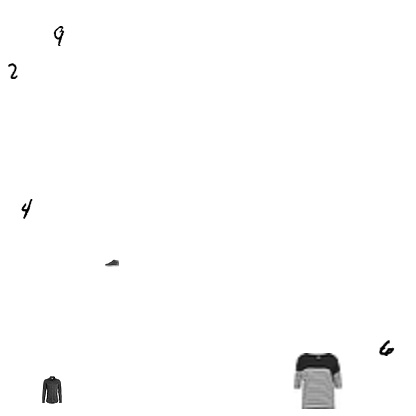2: (2, 60, 24, 82)
4: (12, 194, 40, 222)
6: (375, 338, 397, 360)
9: (45, 20, 73, 48)
Shirt: (38, 376, 66, 404)
Sneaker: (105, 256, 119, 270)
T-shirt/top: (290, 353, 346, 409)
